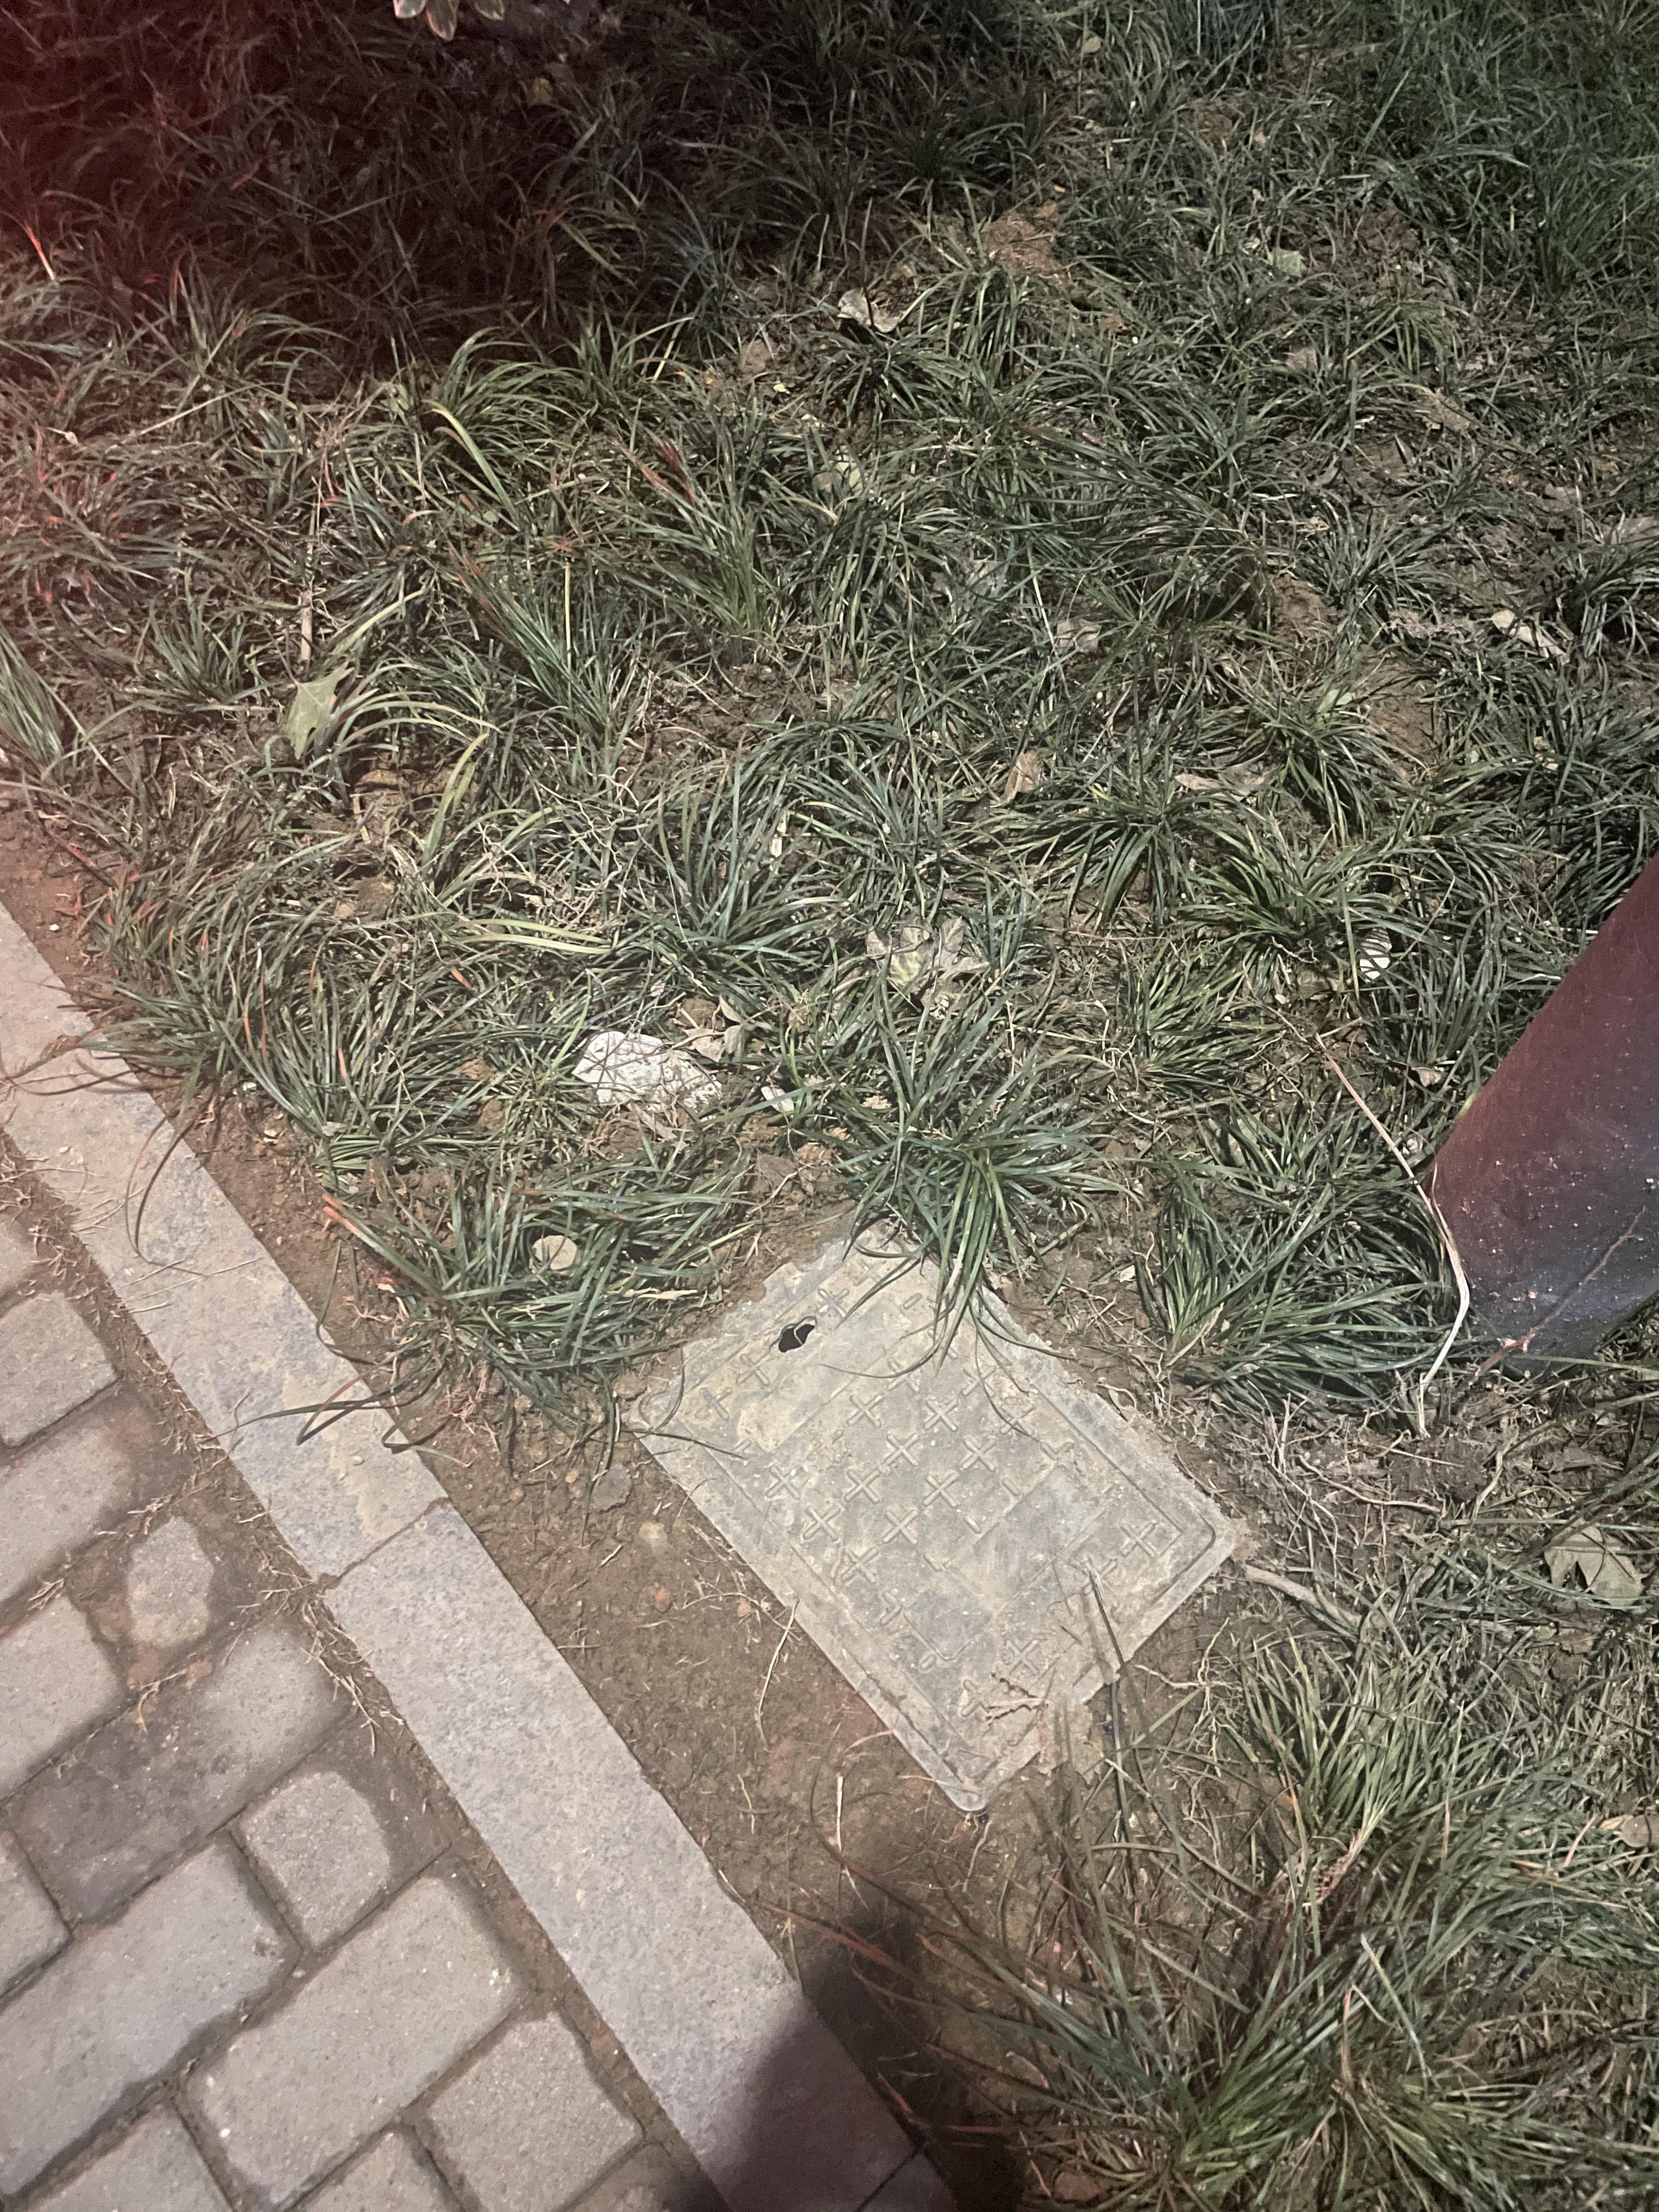wellcover: (566, 1170, 1258, 1848)
